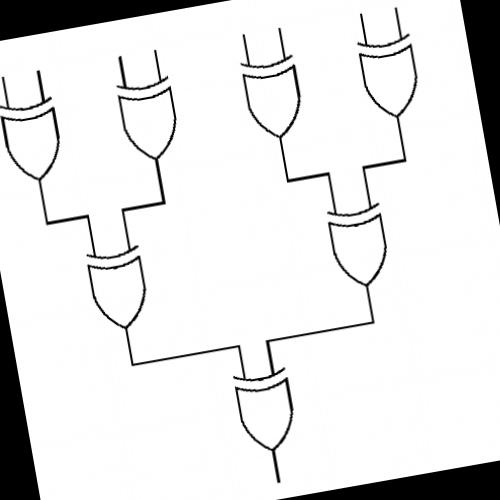xor: (107, 68, 191, 170), (350, 24, 432, 128), (78, 238, 159, 339), (226, 360, 307, 461), (318, 196, 399, 296), (234, 47, 312, 145), (0, 87, 74, 189)
